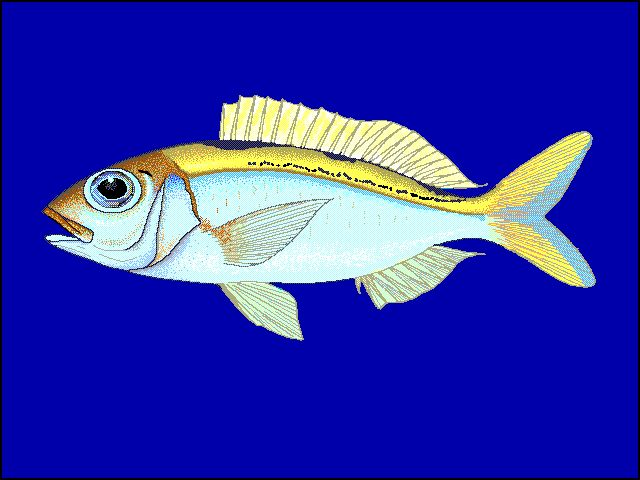fish: (42, 93, 597, 342)
